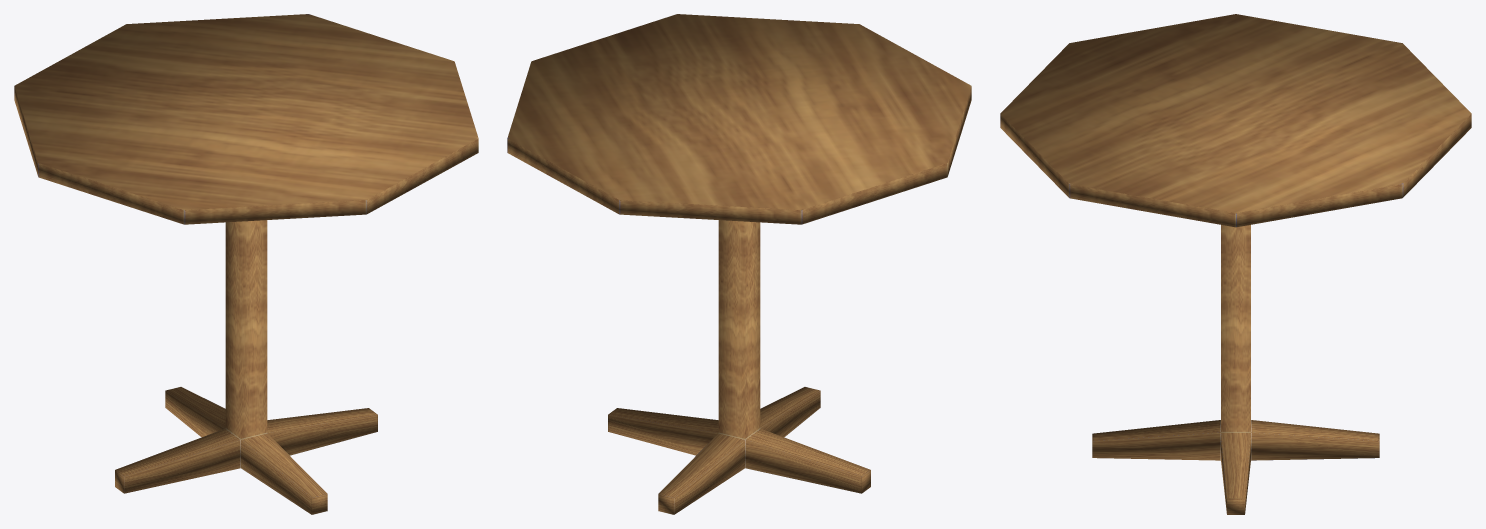
Rendered from breakroom_table.fbx.
The picture shows the model from 3 angles, left to right: view 1: azimuth 30°, elevation 25°; view 2: azimuth 150°, elevation 25°; view 3: azimuth 270°, elevation 25°; orthographic projection.
Visible parts, largest first — view 1: break_room_table; view 2: break_room_table; view 3: break_room_table.
Boxes of the visible parts, <box> form: break_room_table: <box>14,14,478,514</box>; break_room_table: <box>507,14,971,514</box>; break_room_table: <box>1000,14,1471,514</box>.
Size of the model in its own units: 147 by 117 by 147.
Materials: 1 (1 with a texture image).
